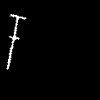double_crochet: (7, 14, 25, 68)
